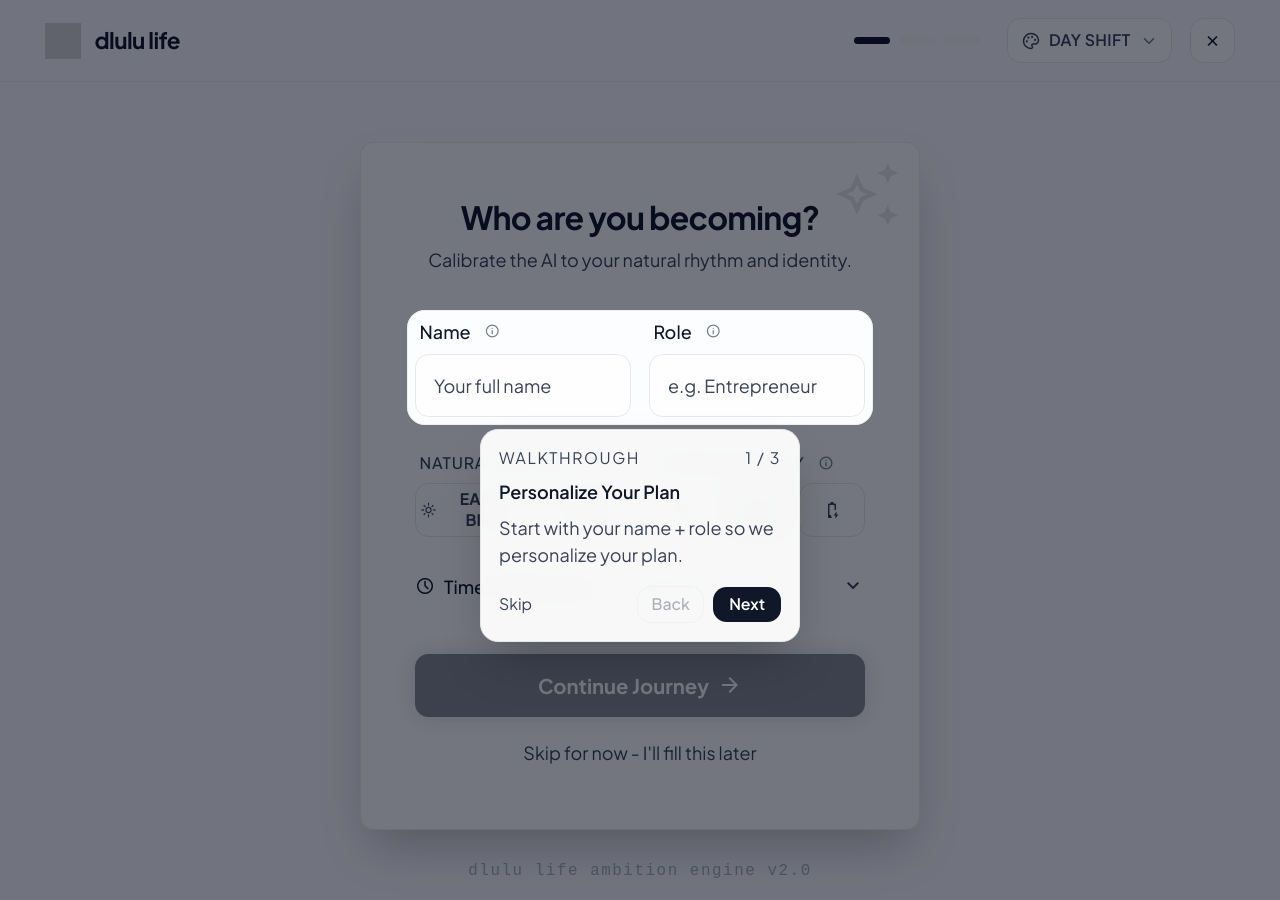
Onboarding › requires name and role before continuing to goals
Expected: the button "Continue Journey" is disabled, top-left (415, 654), bottom-right (865, 717)
Type "Jane Doe" into the field with placeholder "Your full name" at (523, 385), box top-left (415, 354), bottom-right (631, 417)
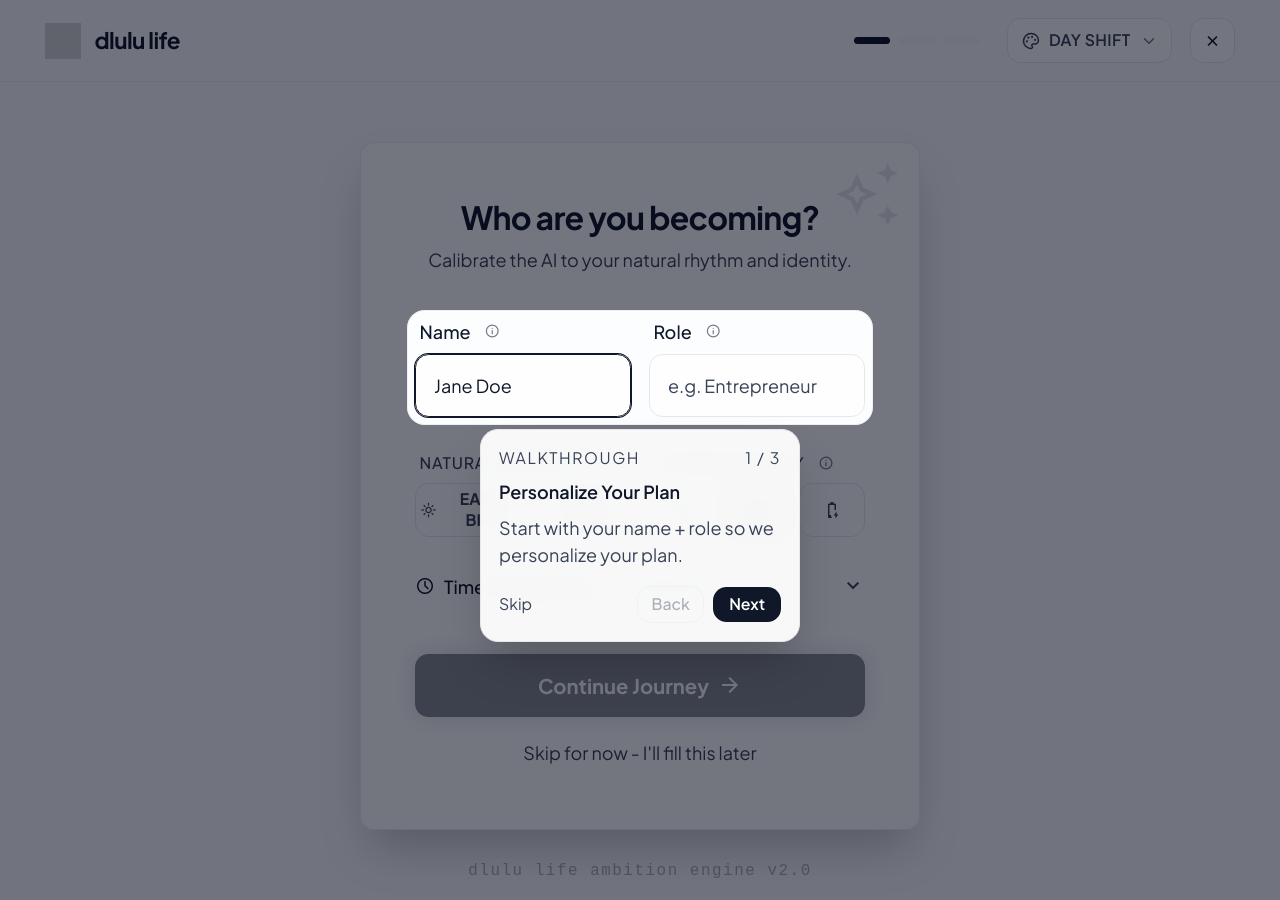
Type "Founder" into the field with placeholder "e.g. Entrepreneur" at (757, 385), box top-left (649, 354), bottom-right (865, 417)
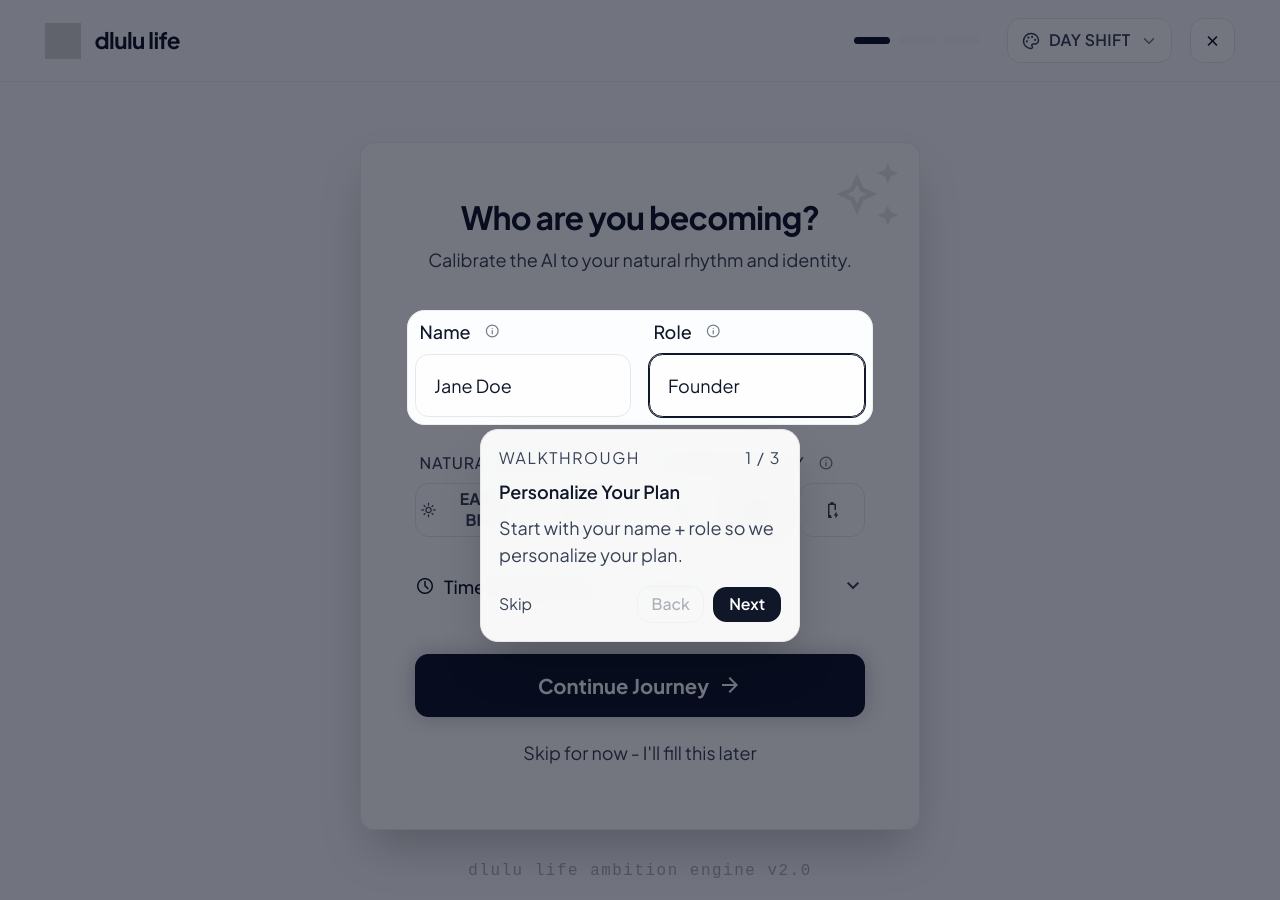
Expected: the button "Continue Journey" is enabled
Click the button "Continue Journey" at (640, 685), box top-left (415, 654), bottom-right (865, 717)
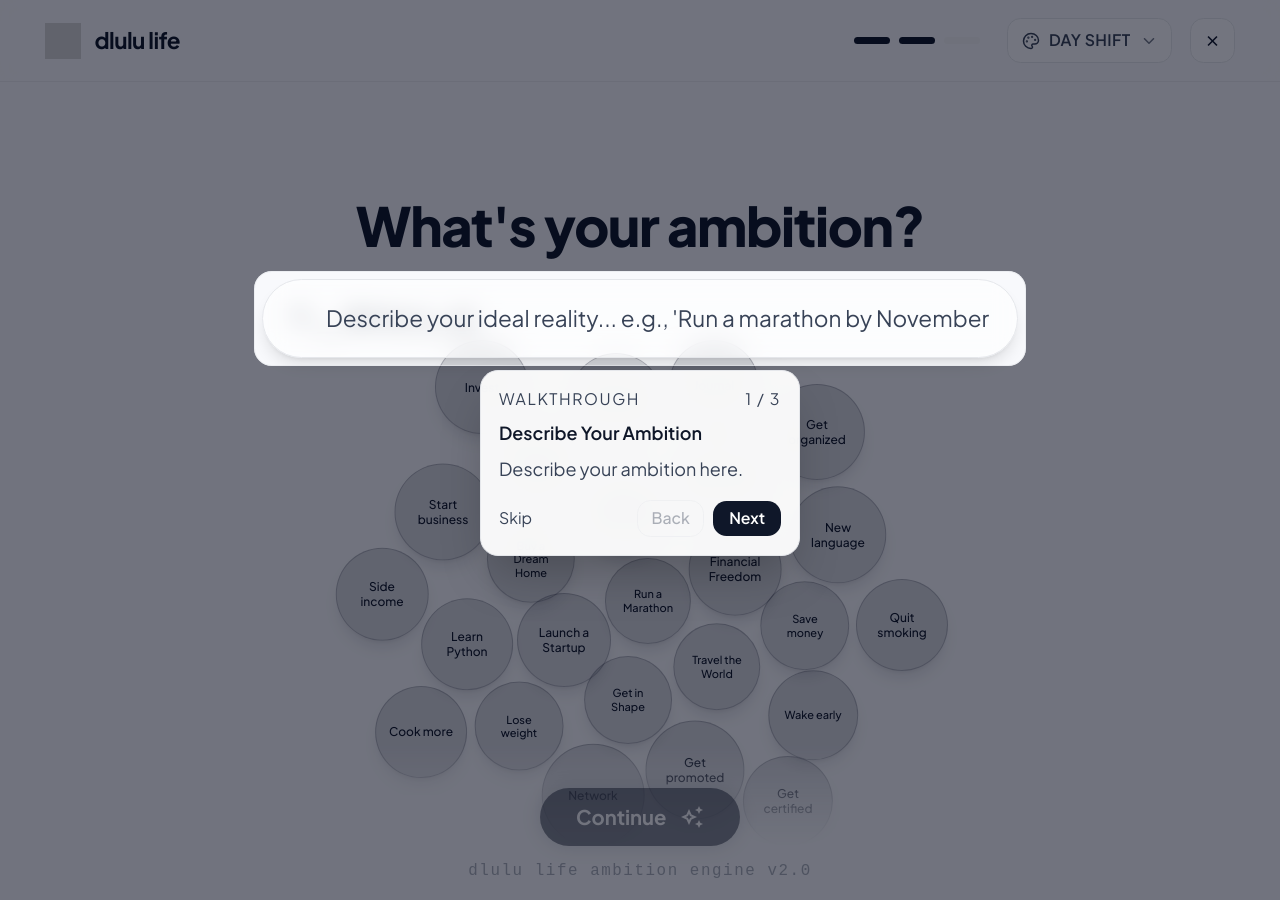
Expected: the heading "What's your ambition?" is shown, top-left (356, 198), bottom-right (924, 252)
